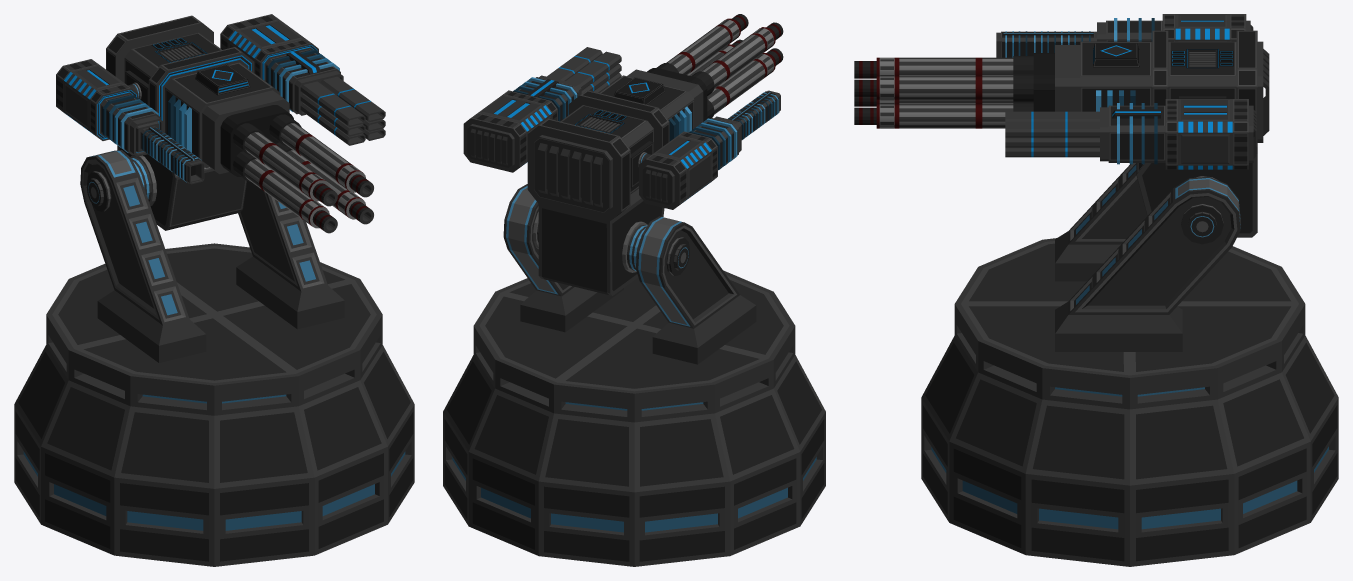
File: GGT2.FBX
The picture shows the model from 3 angles, left to right: view 1: azimuth 30°, elevation 25°; view 2: azimuth 150°, elevation 25°; view 3: azimuth 270°, elevation 25°; orthographic projection. The views are drawn at different scales.
Visible parts, largest first — view 1: PTGG002, GGT003, NTGG002, BT005, LT005; view 2: PTGG002, GGT003, NTGG002, BT005, LT005; view 3: PTGG002, GGT003, NTGG002, BT005, LT005.
Part boxes in pixels (x1=…): PTGG002: x1=14, y1=243, x2=414, y2=566; GGT003: x1=106, y1=15, x2=373, y2=233; NTGG002: x1=80, y1=150, x2=344, y2=362; BT005: x1=220, y1=14, x2=385, y2=145; LT005: x1=56, y1=59, x2=204, y2=184; PTGG002: x1=443, y1=270, x2=825, y2=566; GGT003: x1=527, y1=14, x2=783, y2=295; NTGG002: x1=503, y1=184, x2=756, y2=364; BT005: x1=463, y1=47, x2=621, y2=172; LT005: x1=638, y1=90, x2=780, y2=209; PTGG002: x1=921, y1=238, x2=1338, y2=566; GGT003: x1=854, y1=30, x2=1269, y2=237; NTGG002: x1=1055, y1=163, x2=1240, y2=351; BT005: x1=1005, y1=99, x2=1256, y2=169; LT005: x1=996, y1=14, x2=1253, y2=57.
Bounding box in the file's own units: 782 × 888 × 907.
